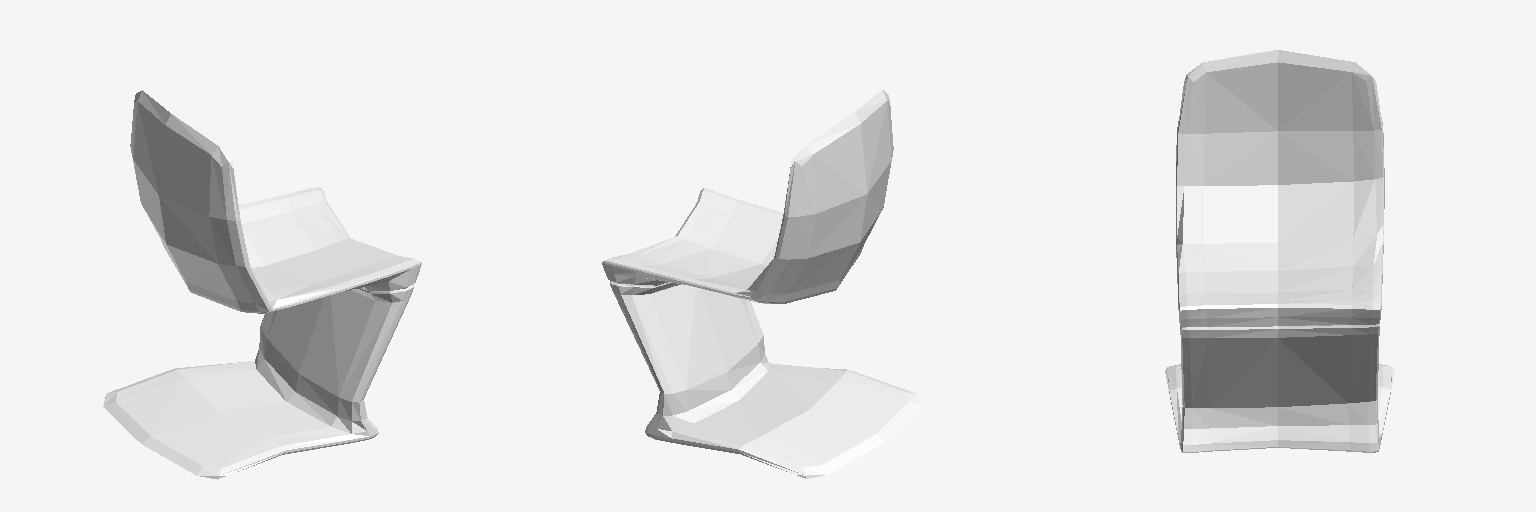
The picture shows the model from 3 angles: view 1: azimuth 30°, elevation 25°; view 2: azimuth 150°, elevation 25°; view 3: azimuth 270°, elevation 25°; orthographic projection.
Parts seen in each view (by area): view 1: aws_ChairD_01_visualMesh; view 2: aws_ChairD_01_visualMesh; view 3: aws_ChairD_01_visualMesh.
Part boxes in pixels (x1,y1,x2,y2): aws_ChairD_01_visualMesh: (103, 90, 421, 479); aws_ChairD_01_visualMesh: (602, 90, 921, 478); aws_ChairD_01_visualMesh: (1165, 50, 1394, 452).
Size of the model in its own units: 0.5731 by 0.7753 by 0.4918.